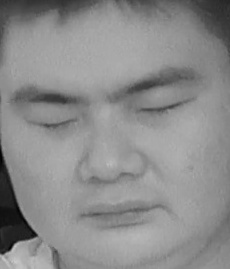blink: (135, 87, 197, 125), (27, 105, 78, 137)
mouth: (77, 191, 162, 233)
